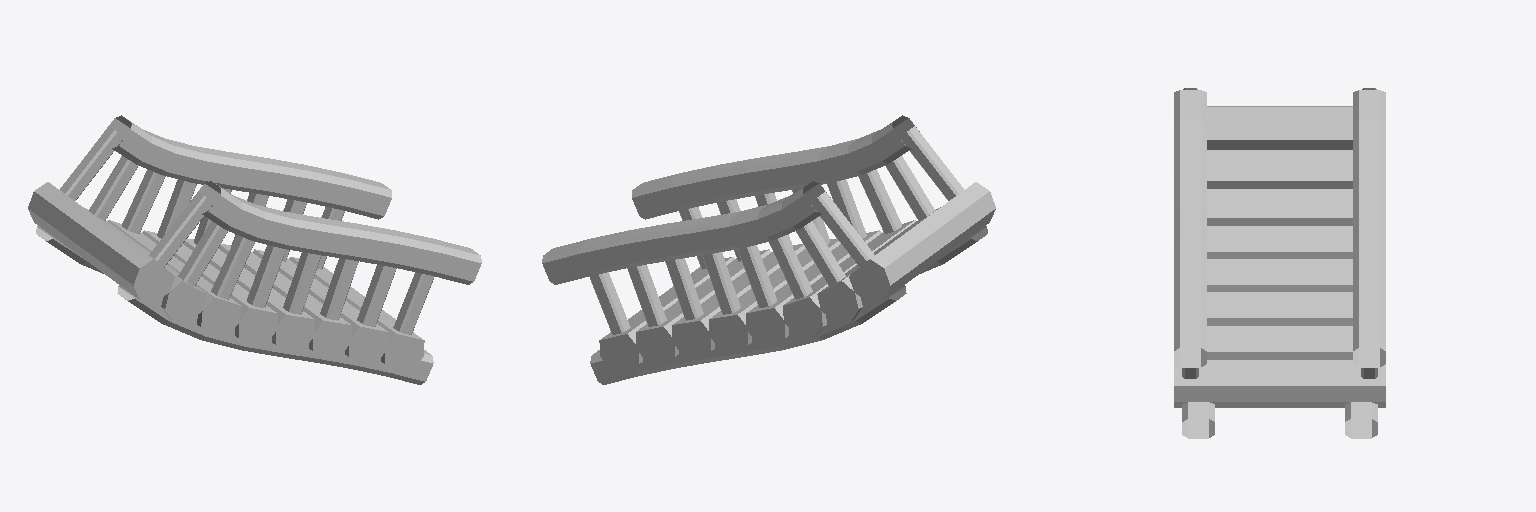
File: Track_Bridge_Incline_Gentle_Sharp_Floating.obj
3 renders of one model, left to right at view 1: azimuth 30°, elevation 25°; view 2: azimuth 150°, elevation 25°; view 3: azimuth 270°, elevation 25°, orthographic.
Visible parts, largest first — view 1: Bridge_Rail, Bridge_Rail_Support, Log_Plank_End, Log_Plank_Bark, Log_Plank_Top, Bridge_Support_Beam; view 2: Bridge_Rail, Bridge_Rail_Support, Log_Plank_End, Log_Plank_Bark, Log_Plank_Top, Bridge_Support_Beam; view 3: Log_Plank_Top, Bridge_Rail, Log_Plank_Bark, Bridge_Support_Beam.
Boxes of the visible parts, x1,y1,x2,y2 form: Bridge_Rail: [104, 115, 481, 284]; Bridge_Rail_Support: [60, 126, 434, 334]; Log_Plank_End: [134, 259, 424, 373]; Log_Plank_Bark: [28, 182, 395, 371]; Log_Plank_Top: [83, 207, 422, 339]; Bridge_Support_Beam: [36, 226, 433, 384]; Bridge_Rail: [542, 115, 919, 284]; Bridge_Rail_Support: [589, 126, 963, 334]; Log_Plank_End: [599, 259, 889, 373]; Log_Plank_Bark: [628, 182, 995, 371]; Log_Plank_Top: [601, 207, 940, 339]; Bridge_Support_Beam: [590, 226, 987, 384]; Log_Plank_Top: [1174, 107, 1385, 385]; Bridge_Rail: [1174, 90, 1385, 367]; Log_Plank_Bark: [1174, 106, 1385, 407]; Bridge_Support_Beam: [1182, 402, 1377, 438].
Bounding box in the file's own units: 2.49 × 1.69 × 1.3.